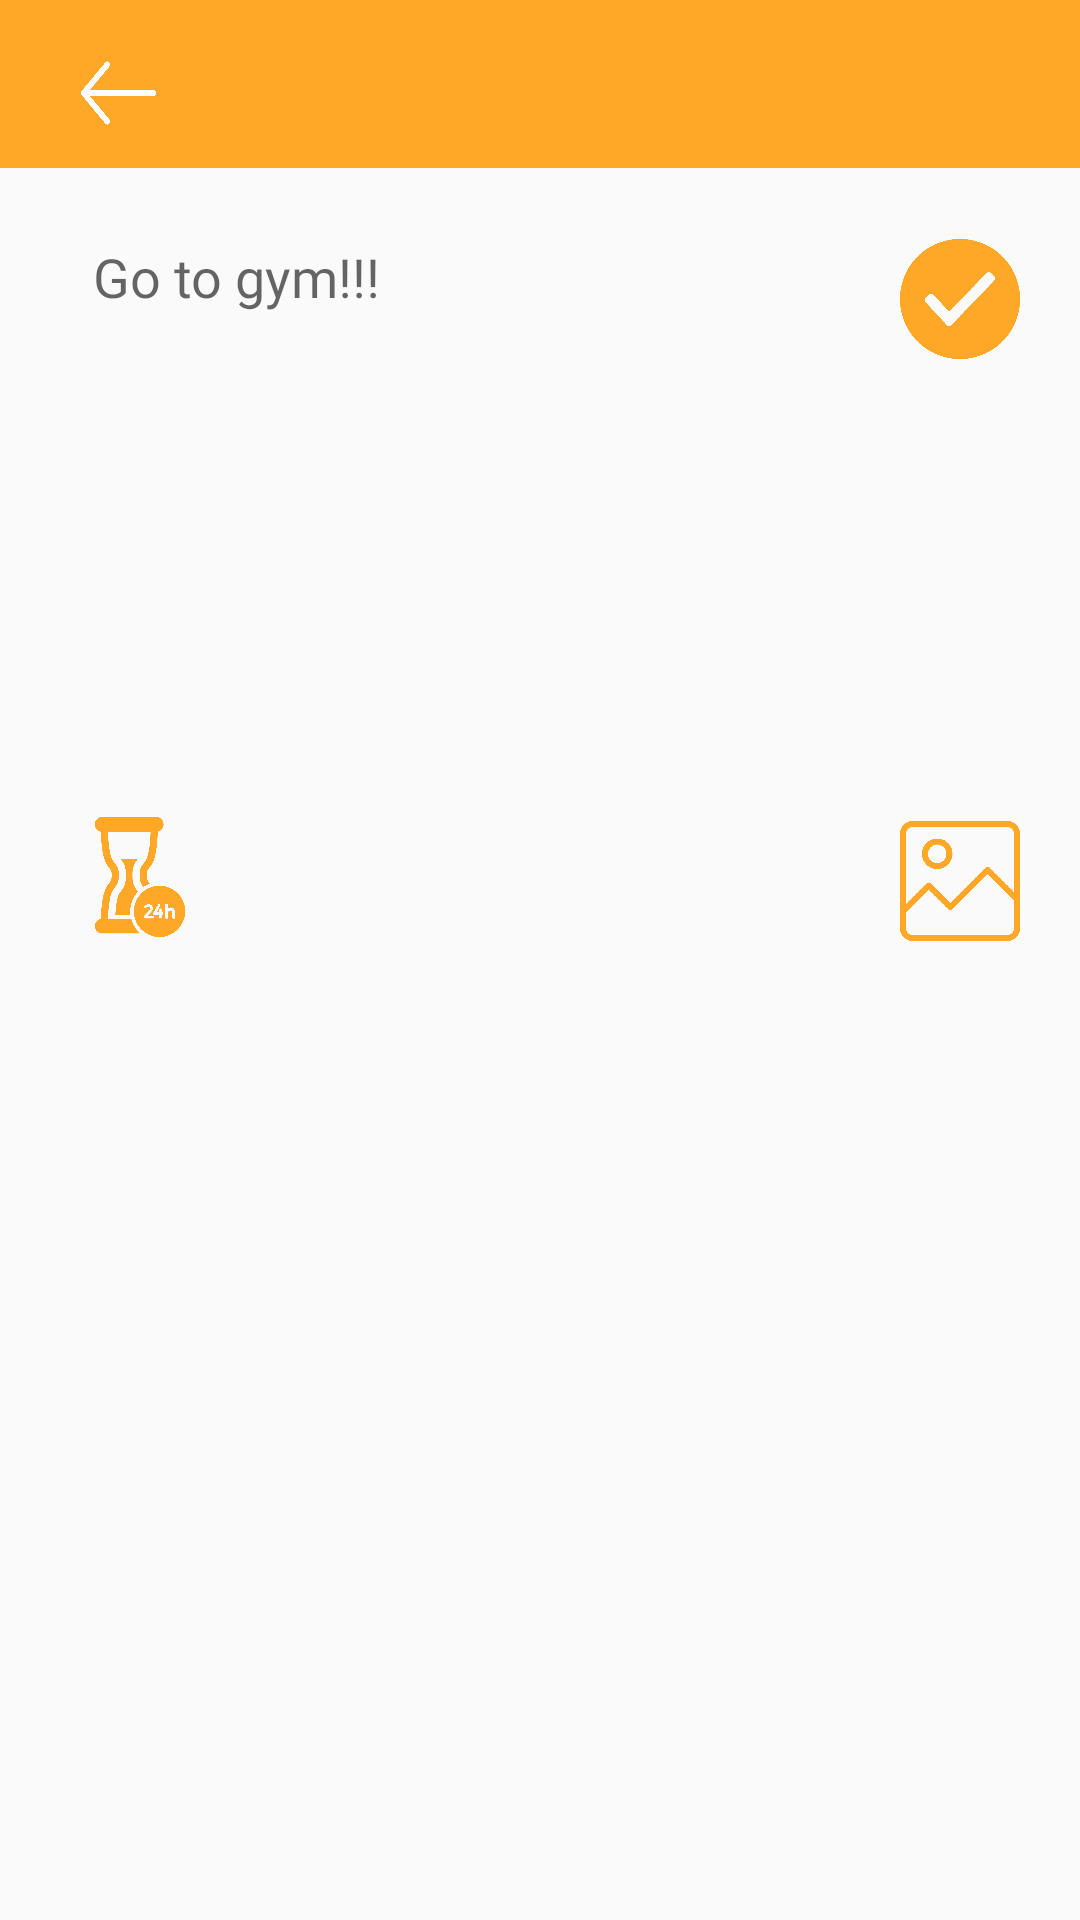

Point at icon controls on the screen. Image size 1080px×1920px, points as point (x, y).
createtodo doneicon: point (960, 299)
createtodo remindericon: point (140, 877)
previouspage arrowbutton: point (118, 93)
